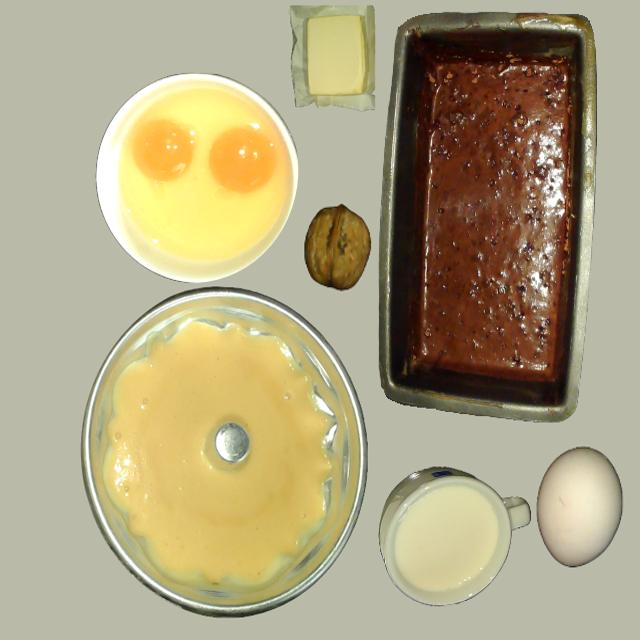Egg: (208, 126, 275, 193), (132, 117, 196, 182)
Milk: (395, 485, 497, 593)
Walnut: (304, 206, 370, 290)
